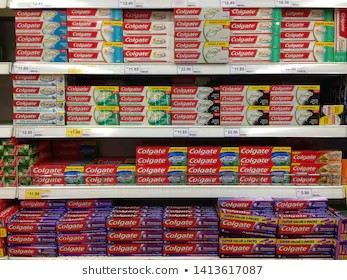colgate-family: (173, 18, 228, 42), (135, 146, 188, 168), (32, 166, 85, 188), (70, 42, 125, 63), (68, 21, 125, 41), (238, 146, 291, 167), (186, 145, 238, 166), (282, 19, 334, 40), (282, 41, 335, 61), (84, 167, 136, 186), (135, 168, 188, 186), (241, 167, 291, 186), (188, 165, 239, 183), (174, 44, 228, 59)
colgate-medium: (218, 212, 277, 236), (275, 238, 335, 255), (277, 219, 336, 236), (222, 239, 275, 255), (14, 35, 70, 50), (124, 47, 175, 63), (14, 20, 66, 35), (53, 217, 107, 231), (163, 214, 221, 227), (160, 241, 218, 254), (231, 46, 279, 61), (17, 47, 68, 61), (107, 217, 161, 230), (228, 34, 280, 47), (229, 6, 281, 19), (124, 34, 173, 47), (125, 21, 173, 34), (55, 243, 107, 255), (173, 8, 228, 19), (106, 230, 161, 241), (55, 232, 107, 243), (231, 19, 281, 30), (107, 244, 160, 254), (163, 232, 219, 241), (16, 11, 66, 20)
